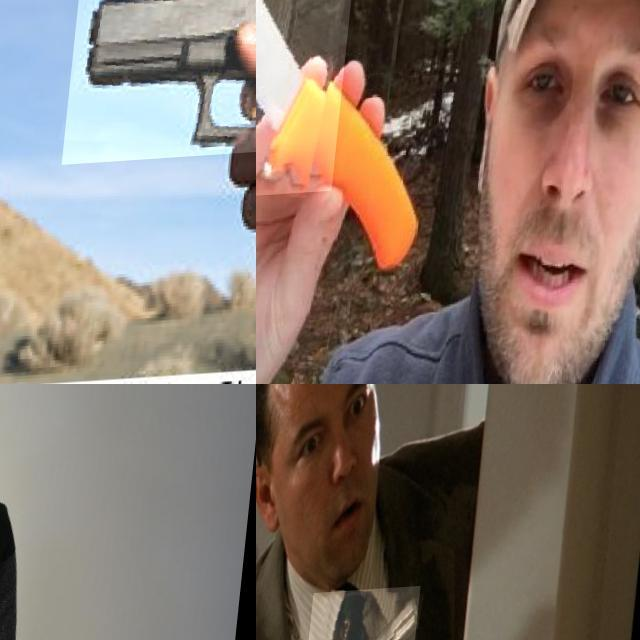-: (256, 0, 369, 205), (0, 529, 42, 603)
gun-knife-thesis - v11 Yolov5 augmented: (69, 0, 256, 166), (302, 591, 428, 640)
